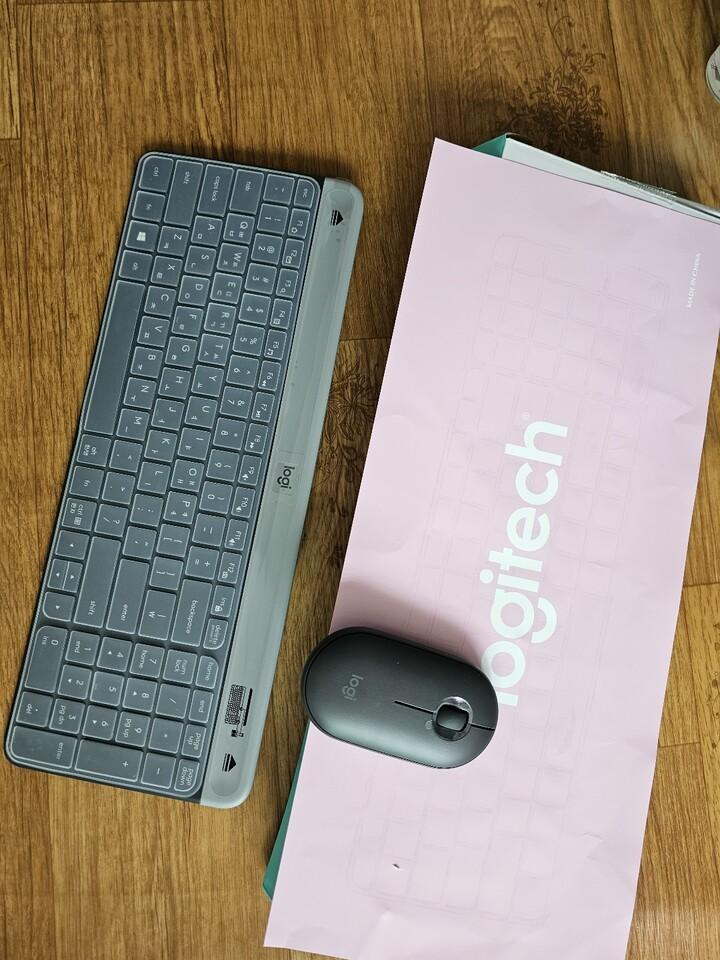keyboard: (3, 149, 364, 809)
mouse: (299, 624, 498, 769)
